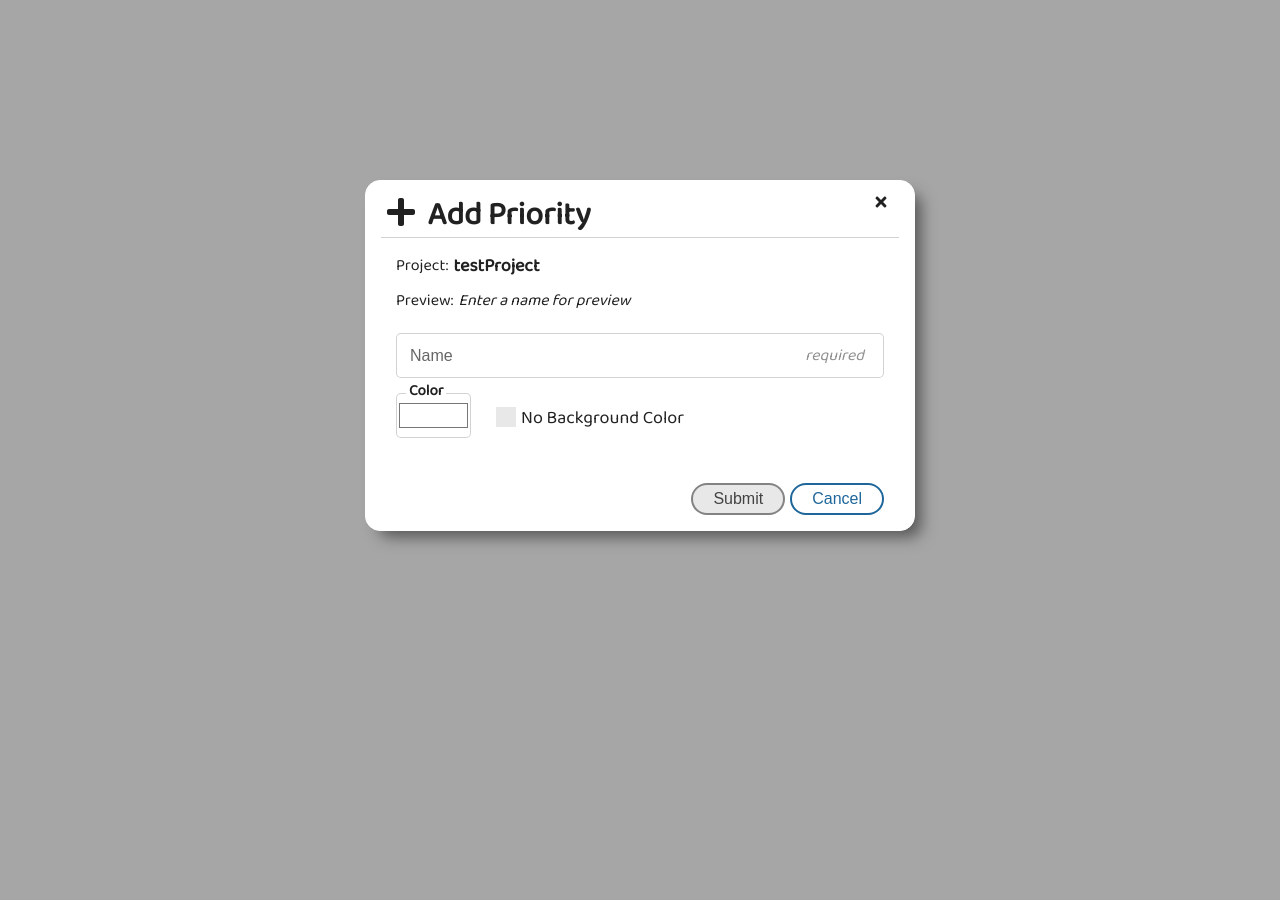
Test: <ProjectConfigModal /> › should set the colorError if there is a color validation error
Type "Test Priority" into the field with test id "nameInput.input". click: (640, 356)
box: [396,333,884,378]
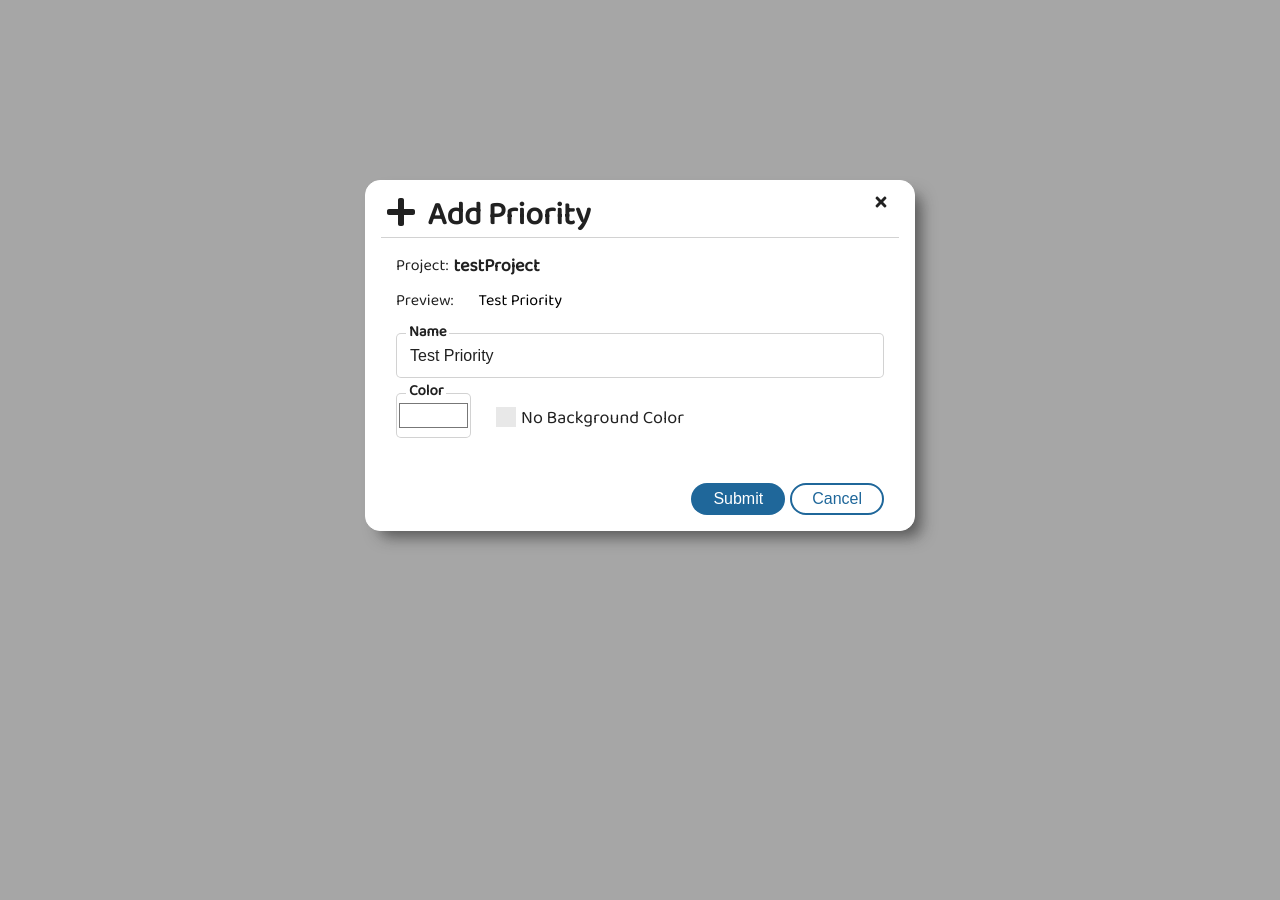
Type "#a82c9b" into the colour field with test id "colorInput.input". click: (434, 416)
box: [396,393,471,438]
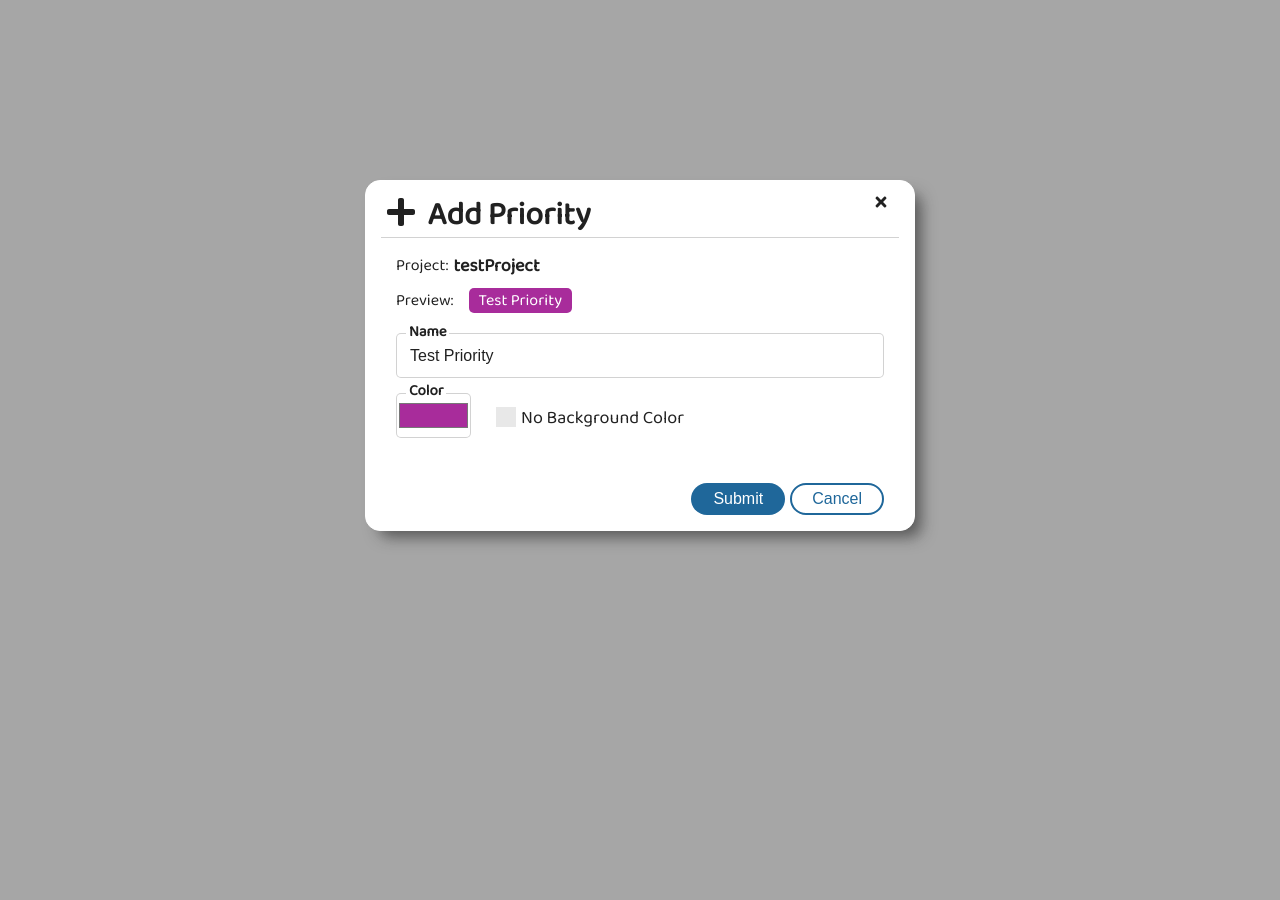
Click the button with test id "projectConfigModal.actions.primaryButton". click: (738, 499)
box: [691,483,785,515]
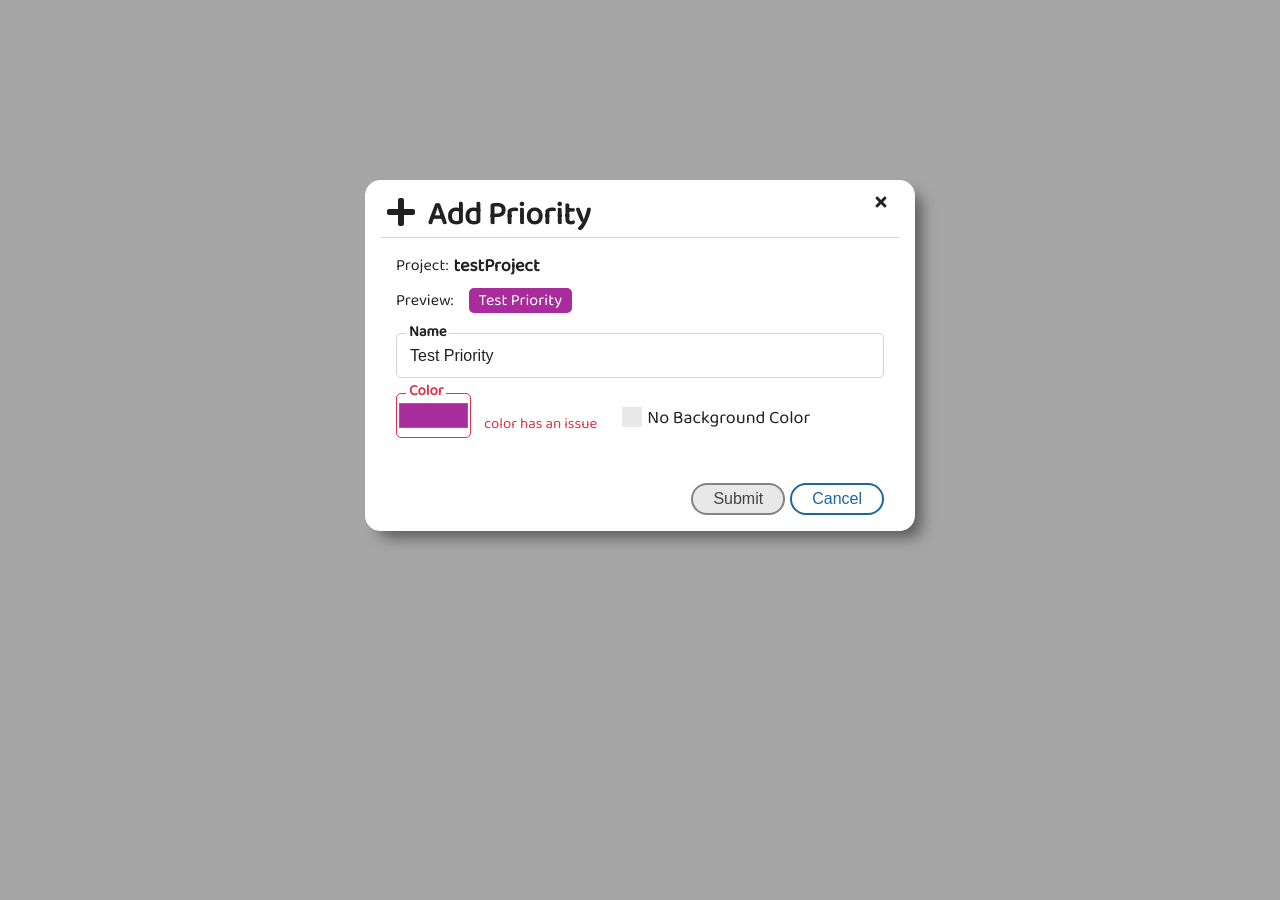
Check: the text "color has an issue" is shown, box [484,412,597,436]
